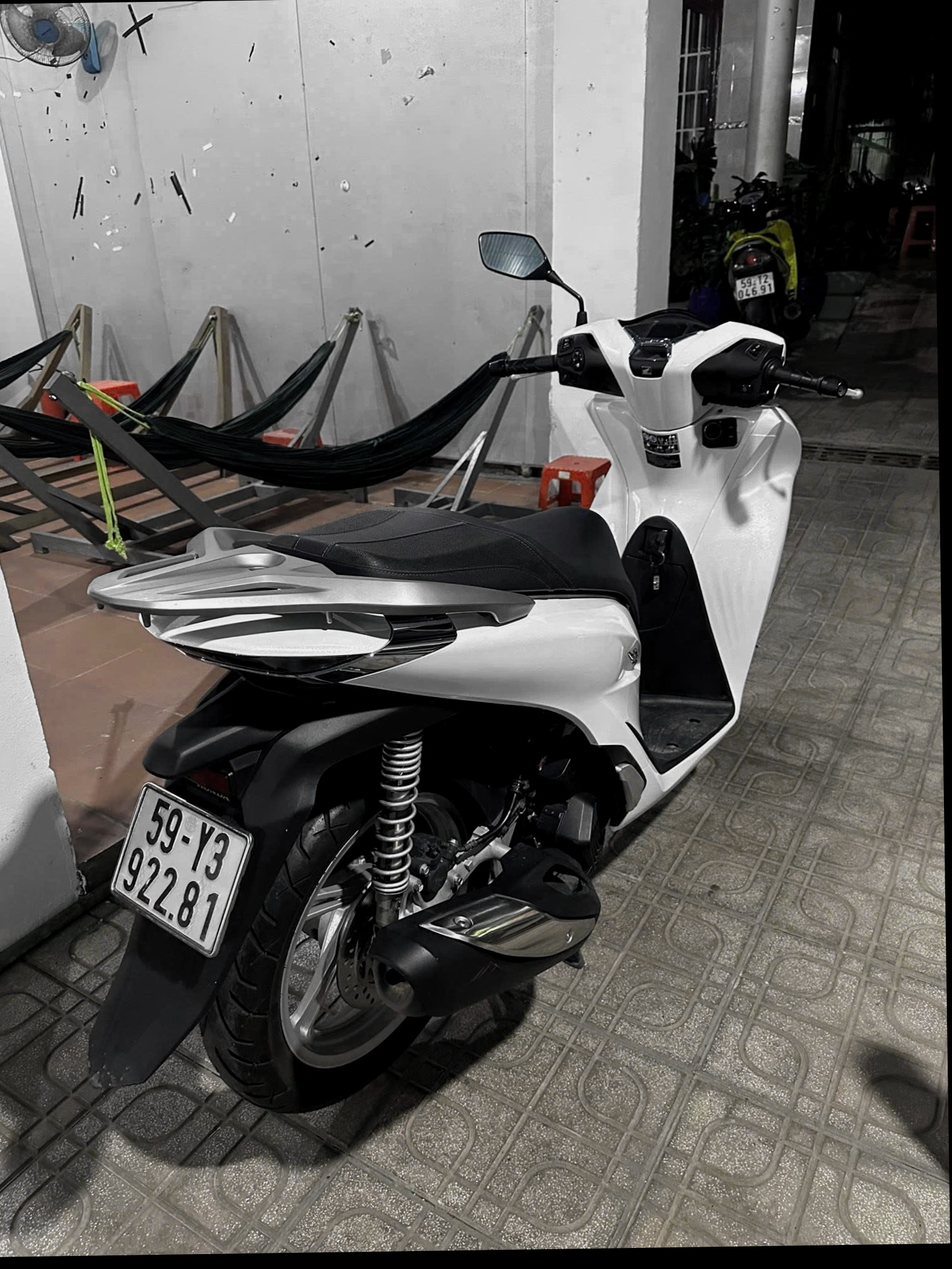Bien-so: (109, 754, 257, 949)
